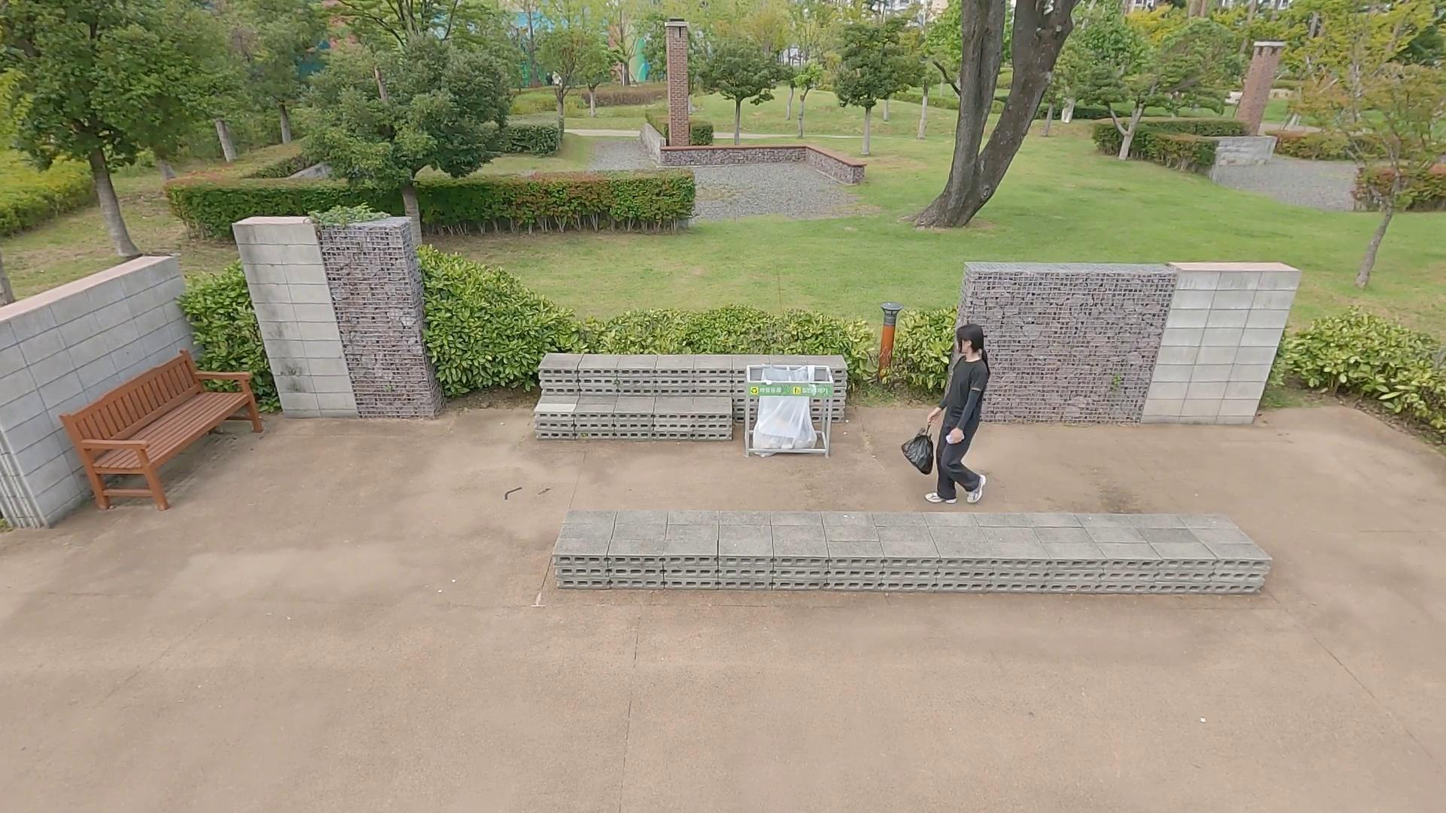person: (925, 324, 990, 507)
trash: (902, 423, 934, 475)
